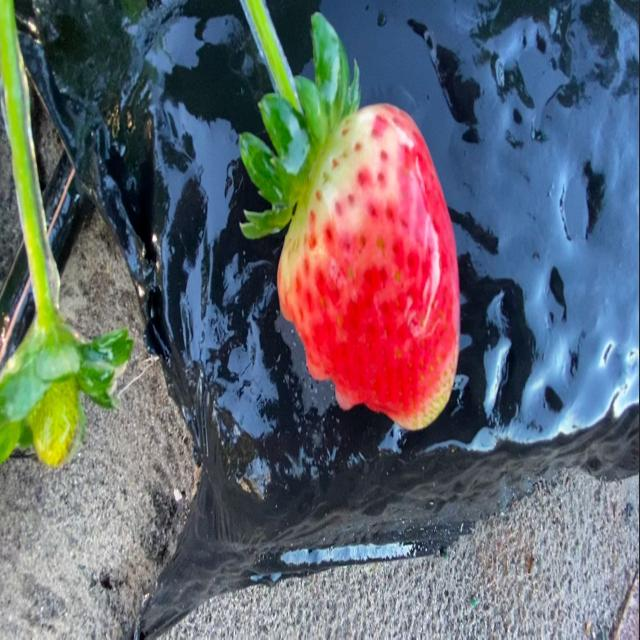strawberry: (245, 24, 476, 482)
